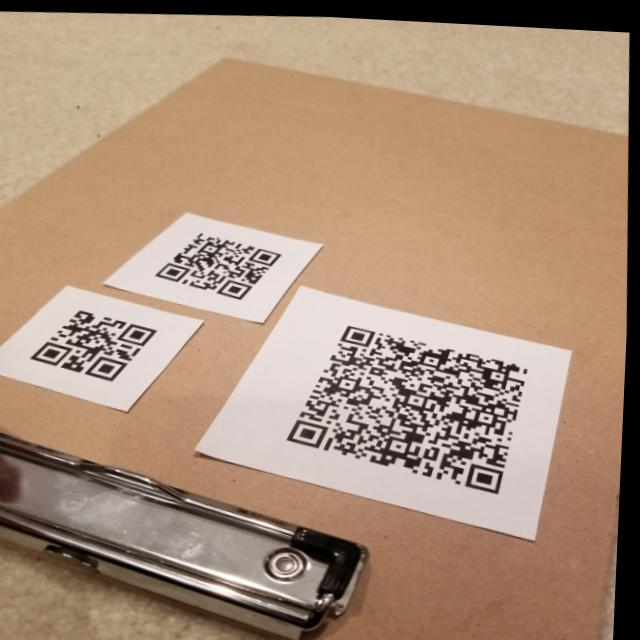QR_CODE: (271, 300, 547, 508), (21, 292, 177, 392), (147, 216, 292, 307)
